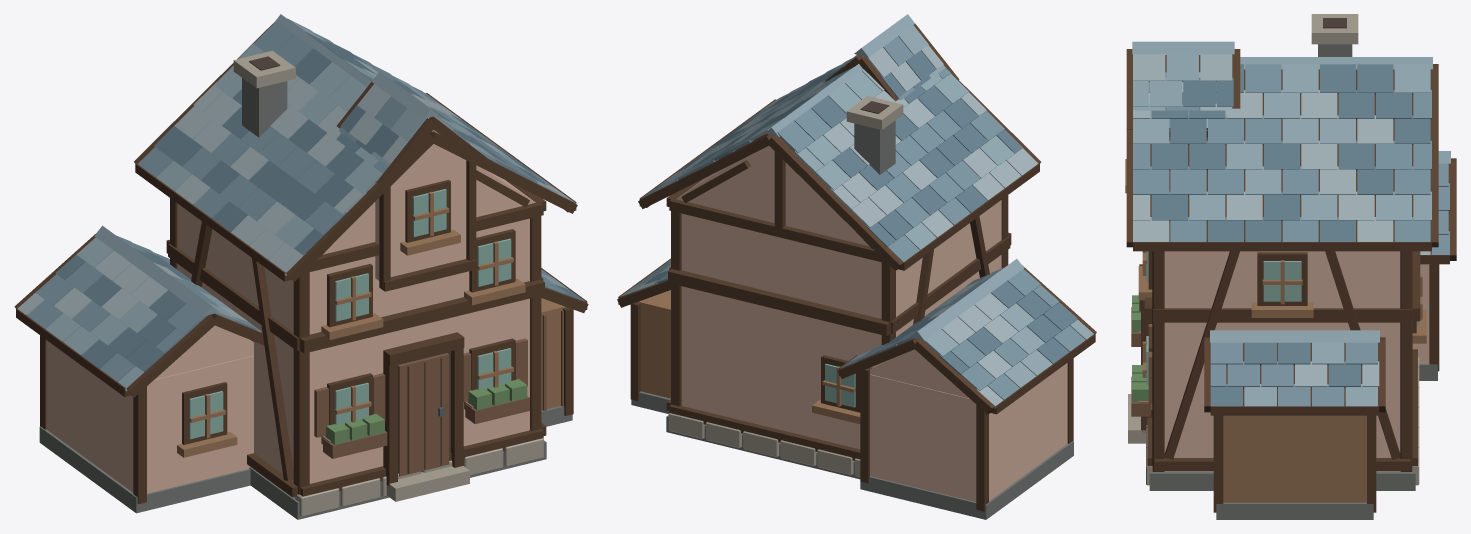
The model's file is ENV_Cottage_C_LOD0.glb.
The picture shows the model from 3 angles, left to right: view 1: azimuth 30°, elevation 25°; view 2: azimuth 150°, elevation 25°; view 3: azimuth 270°, elevation 25°; orthographic projection. The views are drawn at different scales.
Parts seen in each view (by area): view 1: ENV_Cottage_C_LOD0_roof_upper_roofTiles, ENV_Cottage_C_LOD0_shell_upper_plasterRose, ENV_Cottage_C_LOD0_shell_upper_woodDark, ENV_Cottage_C_LOD0_wing_plasterRose, ENV_Cottage_C_LOD0_wing_roofTiles, ENV_Cottage_C_LOD0_shell_upper_wood, ENV_Cottage_C_LOD0_upper_rooms_woodDark, ENV_Cottage_C_LOD0_wing_woodDark, ENV_Cottage_C_LOD0_master_gable_woodDark, ENV_Cottage_C_LOD0_roof_upper_woodDark, ENV_Cottage_C_LOD0_master_gable_plasterRose, ENV_Cottage_C_LOD0_master_gable_roofTiles (+19 smaller); view 2: ENV_Cottage_C_LOD0_shell_upper_plasterRose, ENV_Cottage_C_LOD0_roof_upper_roofTiles, ENV_Cottage_C_LOD0_wing_plasterRose, ENV_Cottage_C_LOD0_wing_roofTiles, ENV_Cottage_C_LOD0_shell_upper_woodDark, ENV_Cottage_C_LOD0_wing_woodDark, ENV_Cottage_C_LOD0_roof_upper_woodDark, ENV_Cottage_C_LOD0_upper_rooms_woodDark, ENV_Cottage_C_LOD0_master_gable_roofTiles, ENV_Cottage_C_LOD0_foundation_stone, ENV_Cottage_C_LOD0_wing_stoneDark, ENV_Cottage_C_LOD0_shed_woodLight (+7 smaller); view 3: ENV_Cottage_C_LOD0_roof_upper_roofTiles, ENV_Cottage_C_LOD0_shell_upper_plasterRose, ENV_Cottage_C_LOD0_shed_roofTiles, ENV_Cottage_C_LOD0_shed_woodLight, ENV_Cottage_C_LOD0_shell_upper_woodDark, ENV_Cottage_C_LOD0_roof_upper_woodDark, ENV_Cottage_C_LOD0_master_gable_roofTiles, ENV_Cottage_C_LOD0_upper_rooms_woodDark, ENV_Cottage_C_LOD0_shed_woodDark, ENV_Cottage_C_LOD0_shed_stoneDark, ENV_Cottage_C_LOD0_wing_woodDark, ENV_Cottage_C_LOD0_foundation_stoneDark (+12 smaller).
Part boxes in pixels (x1,y1,x2,y2): ENV_Cottage_C_LOD0_roof_upper_roofTiles: (138,14,575,275); ENV_Cottage_C_LOD0_shell_upper_plasterRose: (177,165,535,483); ENV_Cottage_C_LOD0_shell_upper_woodDark: (170,170,546,497); ENV_Cottage_C_LOD0_wing_plasterRose: (46,325,253,493); ENV_Cottage_C_LOD0_wing_roofTiles: (17,225,261,391); ENV_Cottage_C_LOD0_shell_upper_wood: (314,338,527,476); ENV_Cottage_C_LOD0_upper_rooms_woodDark: (166,229,544,353); ENV_Cottage_C_LOD0_wing_woodDark: (14,234,264,504); ENV_Cottage_C_LOD0_master_gable_woodDark: (337,82,487,291); ENV_Cottage_C_LOD0_roof_upper_woodDark: (134,23,577,281); ENV_Cottage_C_LOD0_master_gable_plasterRose: (375,131,466,280); ENV_Cottage_C_LOD0_master_gable_roofTiles: (338,71,480,183); ENV_Cottage_C_LOD0_shell_upper_plasterRose: (676,146,1001,449); ENV_Cottage_C_LOD0_roof_upper_roofTiles: (642,56,1038,262); ENV_Cottage_C_LOD0_wing_plasterRose: (870,349,1067,501); ENV_Cottage_C_LOD0_wing_roofTiles: (839,259,1093,408); ENV_Cottage_C_LOD0_shell_upper_woodDark: (666,151,1008,460); ENV_Cottage_C_LOD0_wing_woodDark: (837,265,1096,511); ENV_Cottage_C_LOD0_roof_upper_woodDark: (638,80,1040,270); ENV_Cottage_C_LOD0_upper_rooms_woodDark: (668,232,1011,335); ENV_Cottage_C_LOD0_master_gable_roofTiles: (825,14,945,101); ENV_Cottage_C_LOD0_foundation_stone: (668,413,860,477); ENV_Cottage_C_LOD0_wing_stoneDark: (860,441,1073,519); ENV_Cottage_C_LOD0_shed_woodLight: (637,290,670,398); ENV_Cottage_C_LOD0_roof_upper_roofTiles: (1133,57,1432,241); ENV_Cottage_C_LOD0_shell_upper_plasterRose: (1164,251,1400,471); ENV_Cottage_C_LOD0_shed_roofTiles: (1210,330,1379,406); ENV_Cottage_C_LOD0_shed_woodLight: (1223,415,1366,502); ENV_Cottage_C_LOD0_shell_upper_woodDark: (1139,251,1417,471); ENV_Cottage_C_LOD0_roof_upper_woodDark: (1126,64,1438,251); ENV_Cottage_C_LOD0_master_gable_roofTiles: (1132,41,1234,130); ENV_Cottage_C_LOD0_upper_rooms_woodDark: (1144,251,1420,322); ENV_Cottage_C_LOD0_shed_woodDark: (1204,337,1385,512); ENV_Cottage_C_LOD0_shed_stoneDark: (1216,502,1373,519); ENV_Cottage_C_LOD0_wing_woodDark: (1420,158,1456,371); ENV_Cottage_C_LOD0_foundation_stoneDark: (1149,471,1415,490).
Size of the model in its own units: 7.18 by 5.88 by 4.54.
